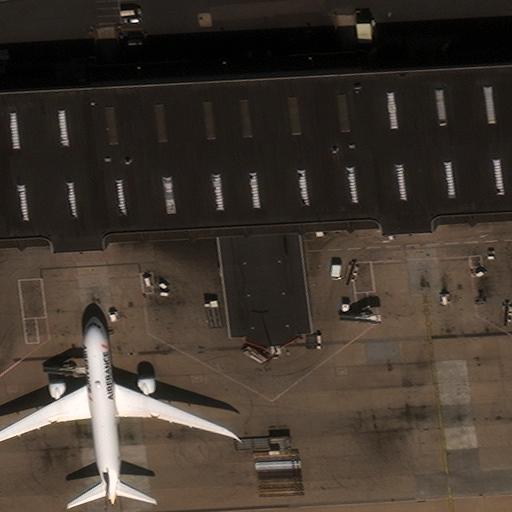Large Civil Transport: (0, 317, 233, 503)
